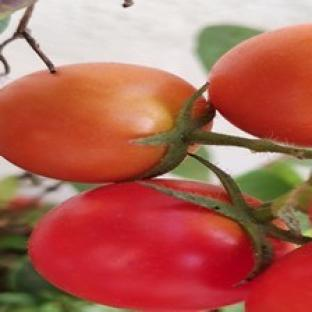Tomato: (30, 182, 254, 310), (0, 63, 196, 182), (209, 24, 311, 146), (246, 244, 311, 311)
